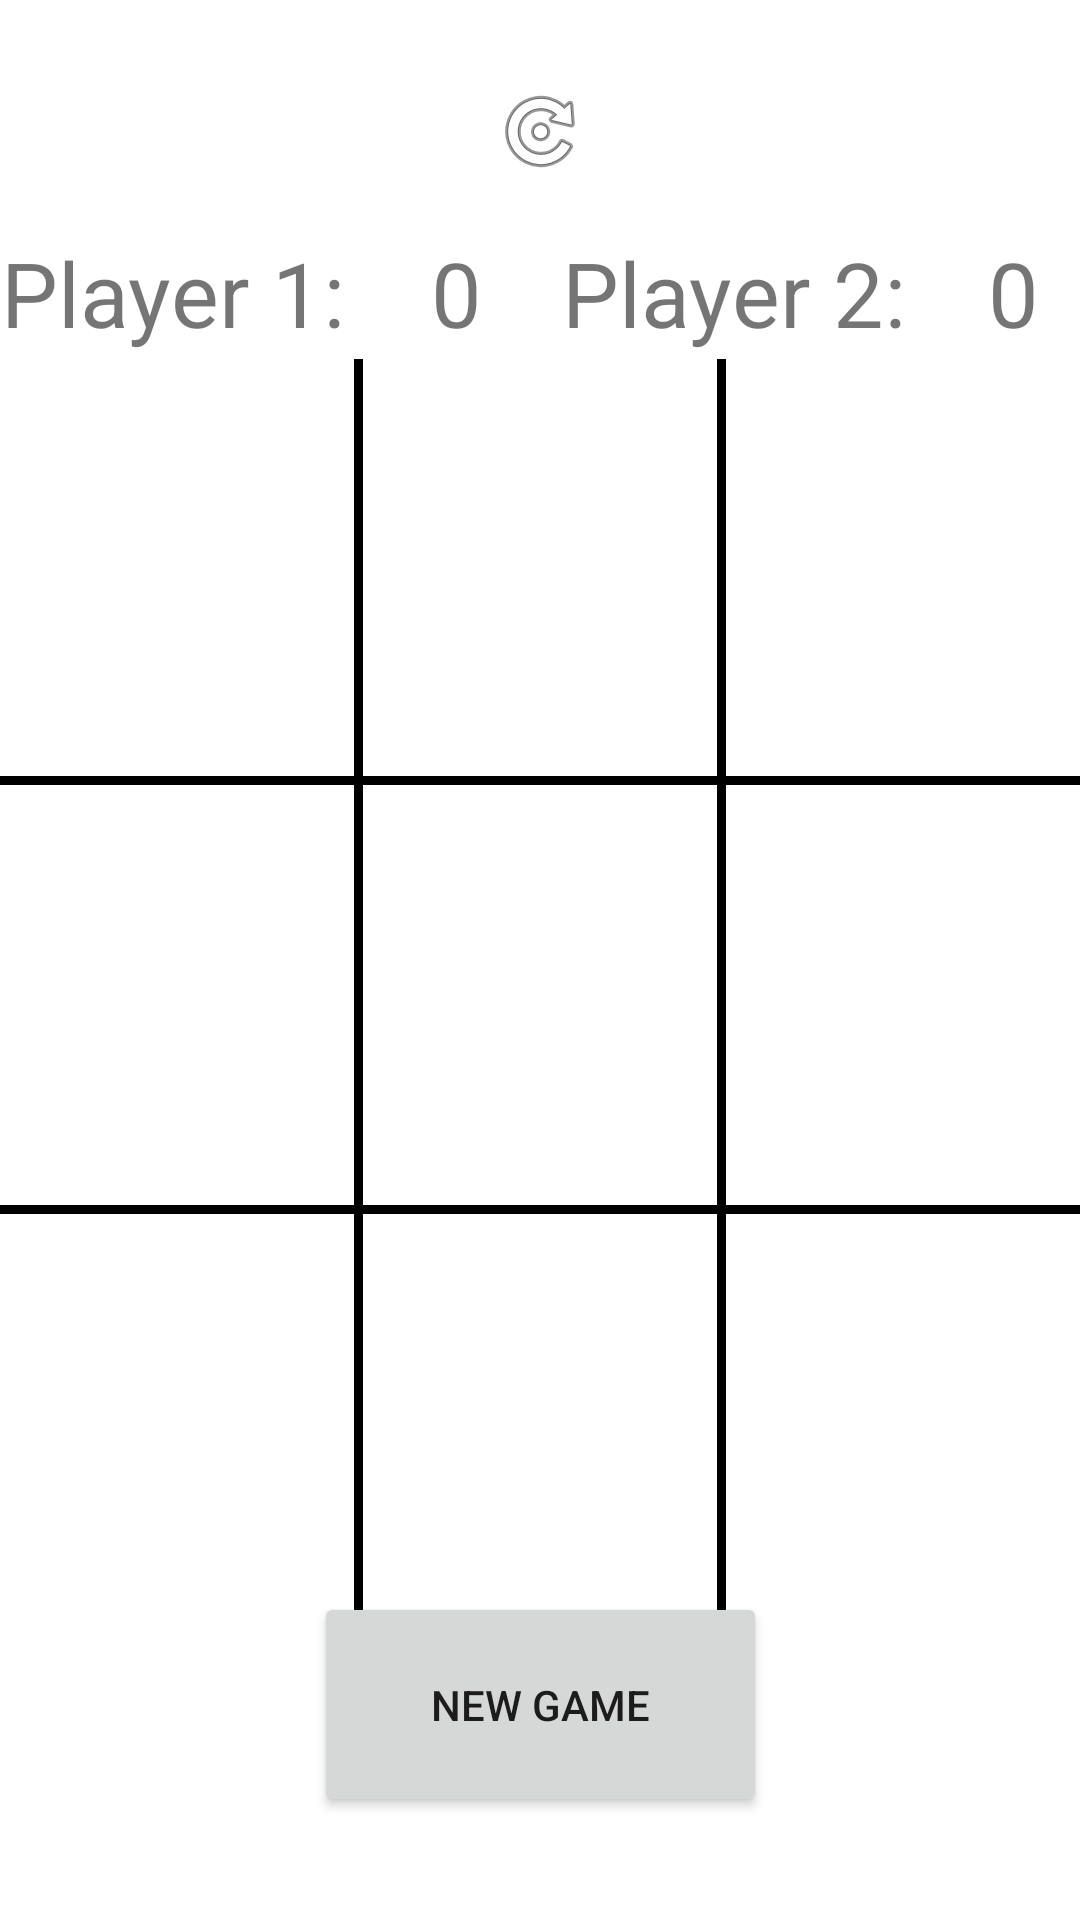

Screen size 1080px x 1920px. Icon name, then its center in pixels as point (x, y):
rotate: point (540, 131)
